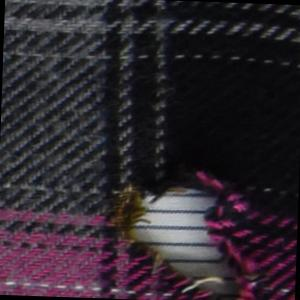Damage: (100, 161, 272, 300)
